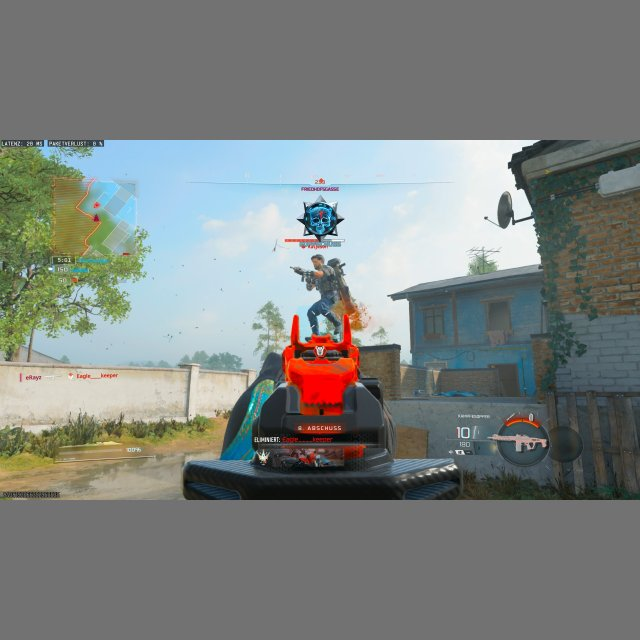head: (311, 254, 325, 269)
player: (295, 254, 345, 340)
